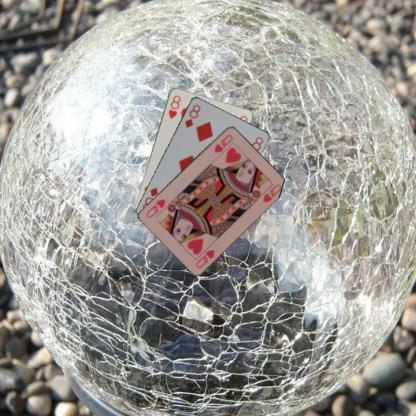8d: (182, 102, 202, 129)
8h: (166, 92, 182, 119)
Qh: (193, 246, 217, 269), (212, 132, 234, 154)
